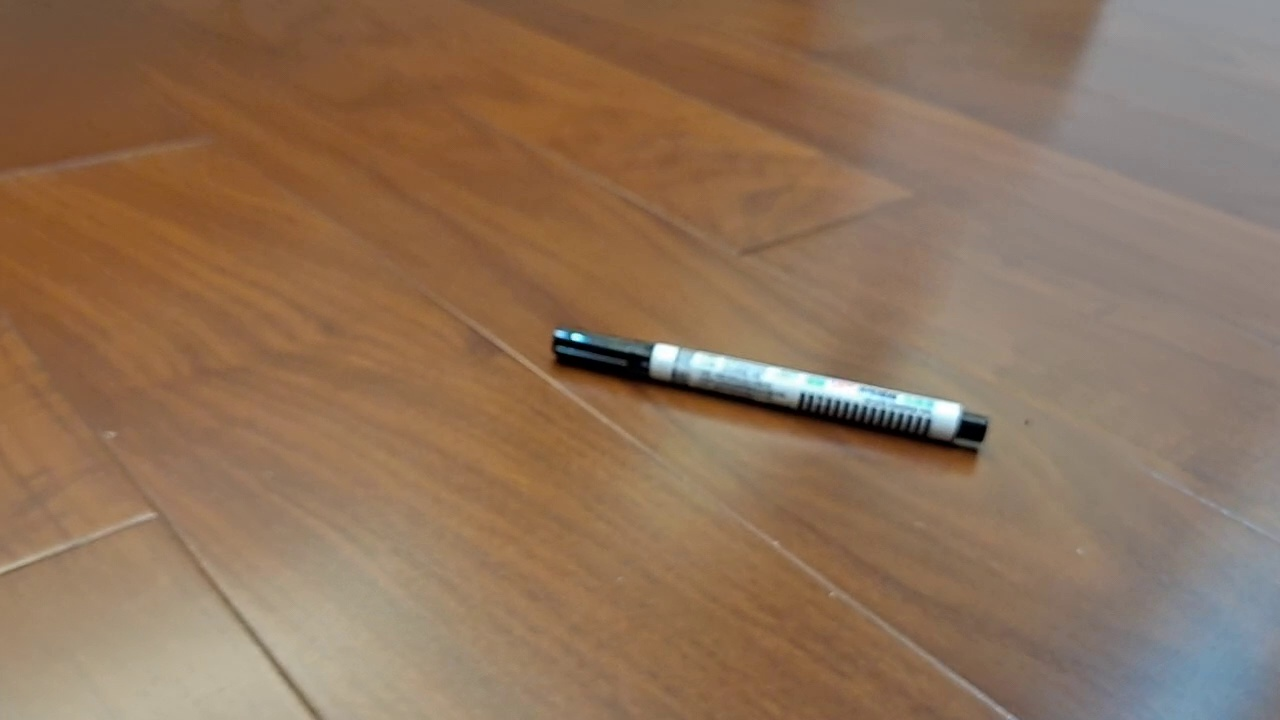pen: (550, 326, 989, 444)
